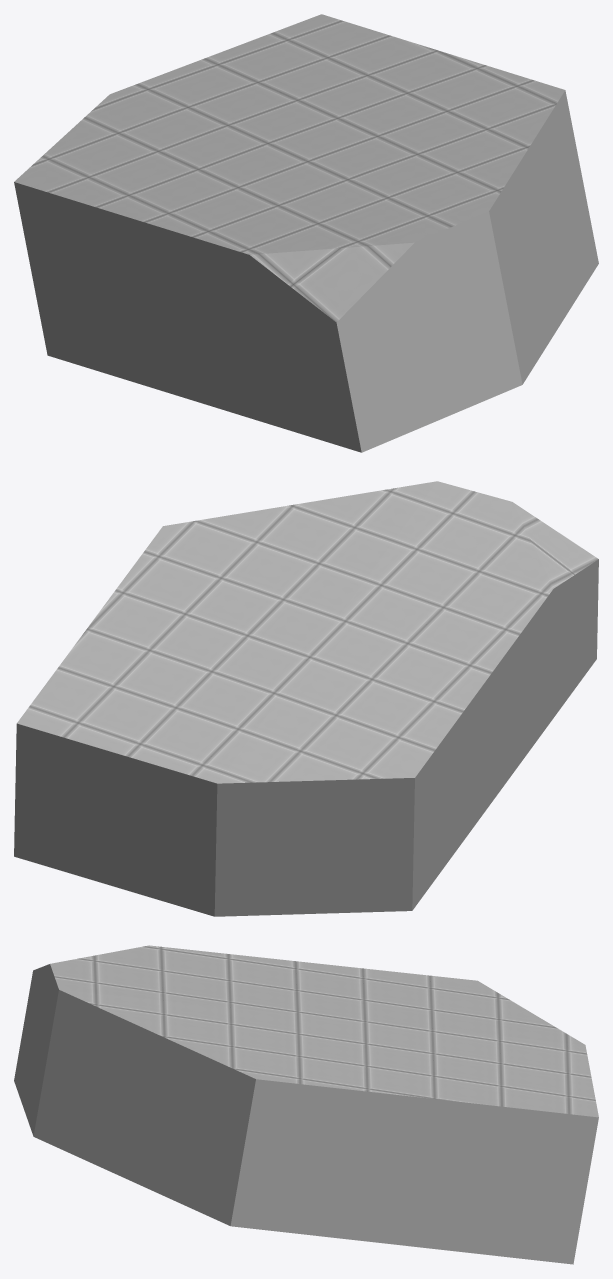
File: Floor7.fbx
3 renders of one model, top to bottom at view 1: azimuth 30°, elevation 25°; view 2: azimuth 150°, elevation 25°; view 3: azimuth 270°, elevation 25°, orthographic. The views are drawn at different scales.
Parts seen in each view (by area): view 1: Floor7; view 2: Floor7; view 3: Floor7.
Part boxes in pixels (x1,y1,x2,y2): Floor7: (14,14,598,452); Floor7: (14,481,598,916); Floor7: (14,945,598,1264).
Size of the model in its own units: 431 by 250 by 596.
